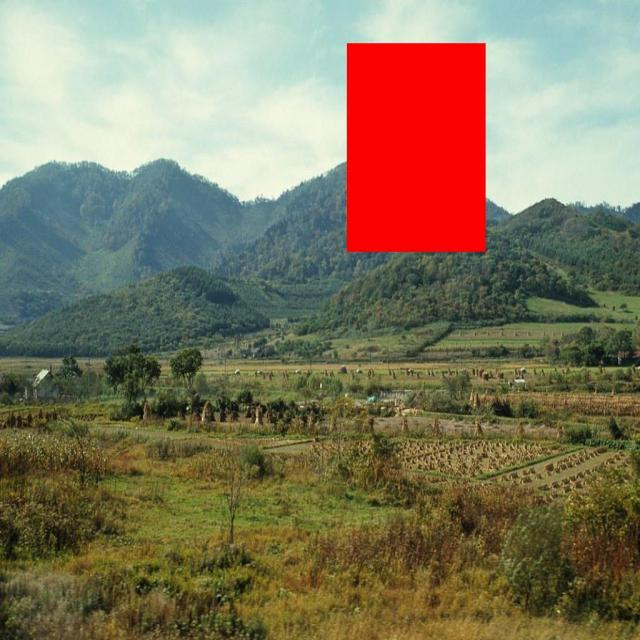RedSquare: (341, 39, 491, 258)
